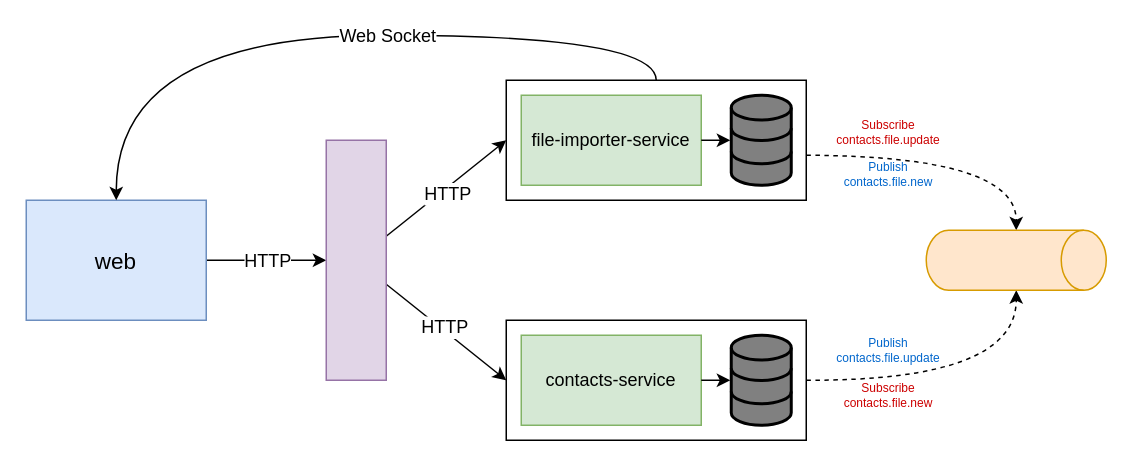
This 1133x467 diagram has some shape labels left out. The shapes that lost their labels are listed below. From the top down, each one's centre as x and y in pixels, then its label:
At point 355,259: "API Gateway".
At point 1015,259: "Event Broker".
